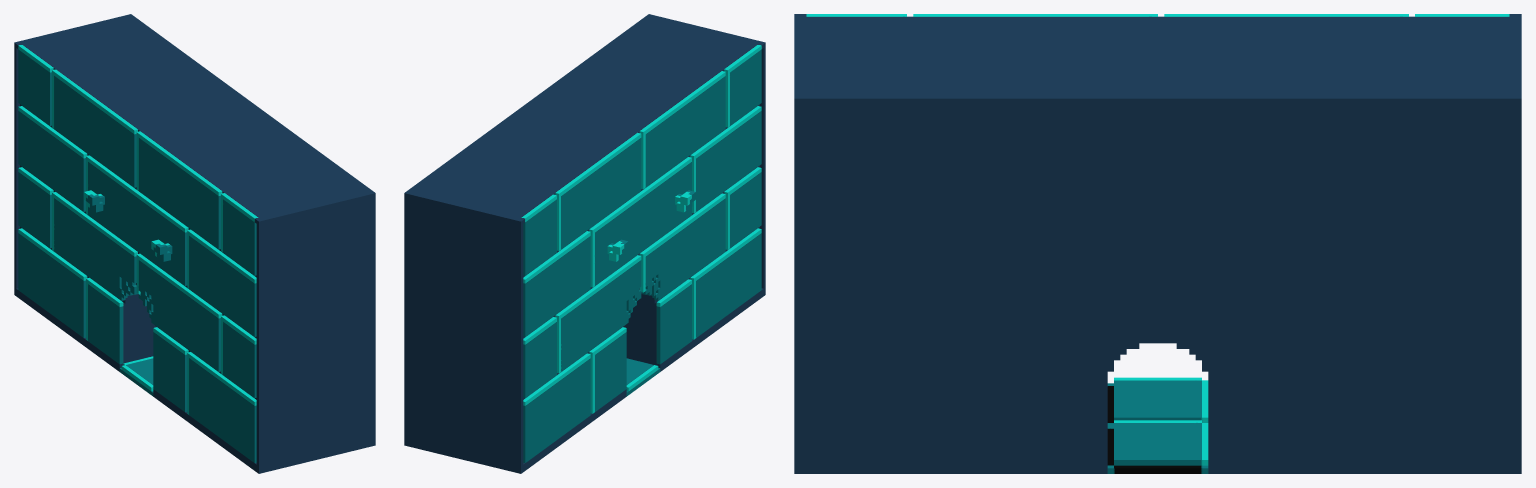
File: EastWallBombed.glb
The picture shows the model from 3 angles, left to right: view 1: azimuth 30°, elevation 25°; view 2: azimuth 150°, elevation 25°; view 3: azimuth 270°, elevation 25°; orthographic projection. The views are drawn at different scales.
Visible parts, largest first — view 1: EastWallBombed; view 2: EastWallBombed; view 3: EastWallBombed.
Part boxes in pixels (bbox=[...]): EastWallBombed: bbox=[14, 14, 375, 473]; EastWallBombed: bbox=[404, 14, 765, 473]; EastWallBombed: bbox=[794, 14, 1521, 473].
Size of what is drawn, in the model's own units: 3.6 by 6.6 by 11.6.
Materials: 1 (1 with a texture image).
